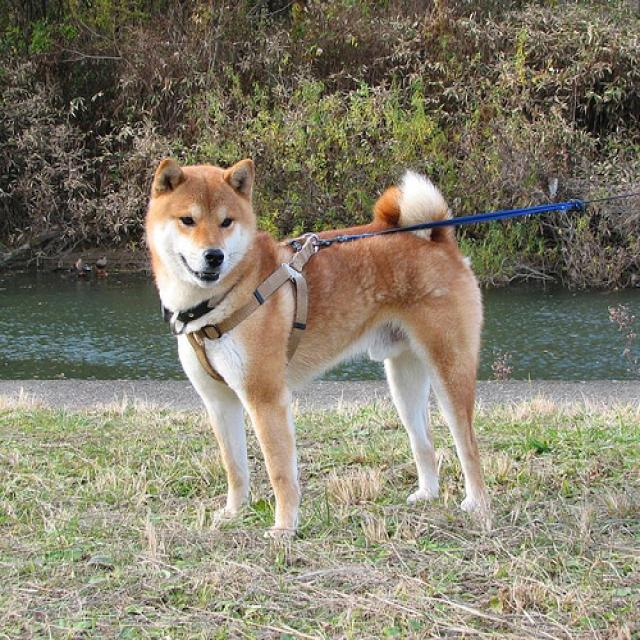dog-shiba_inu: (136, 147, 493, 551)
